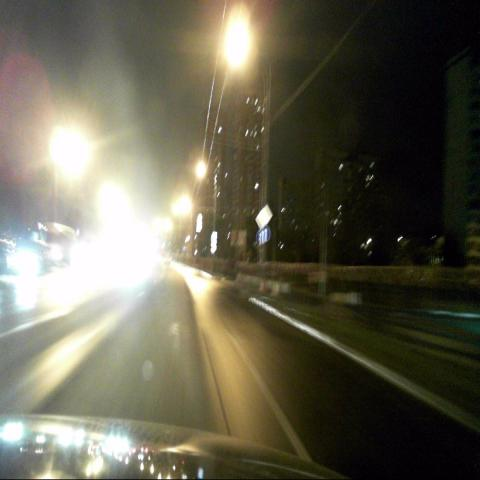2_1: (260, 205, 272, 228)
